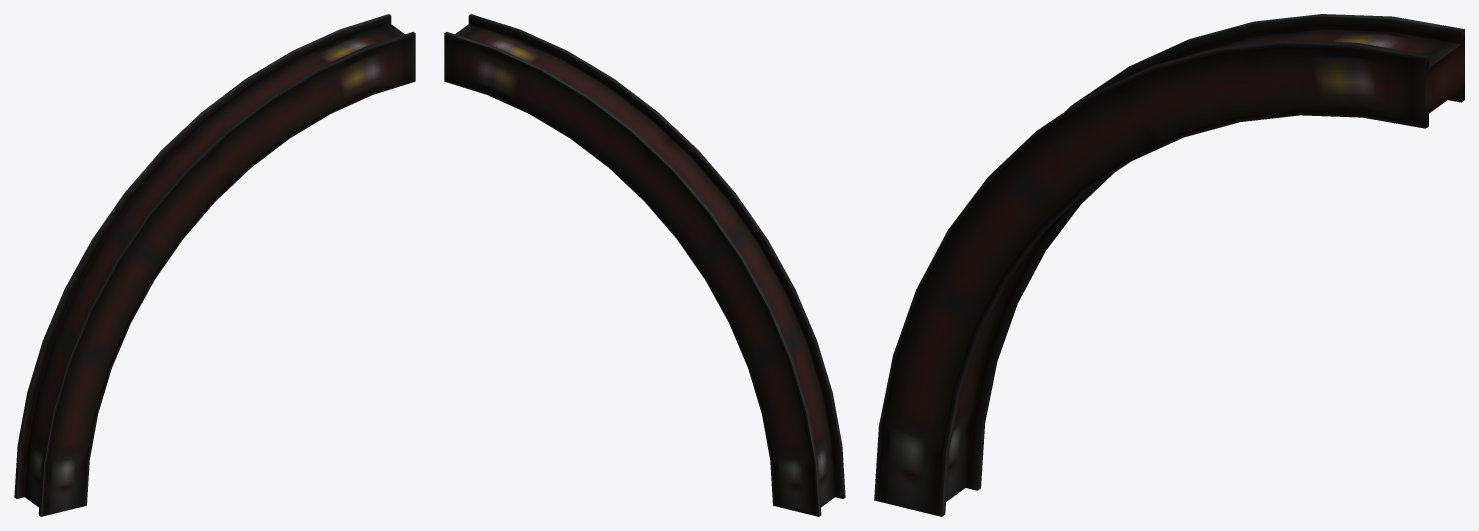
File: Beam_90deg_1.FBX
3 renders of one model, left to right at view 1: azimuth 30°, elevation 25°; view 2: azimuth 150°, elevation 25°; view 3: azimuth 330°, elevation 25°, orthographic. The views are drawn at different scales.
Parts seen in each view (by area): view 1: Beam_90deg_1; view 2: Beam_90deg_1; view 3: Beam_90deg_1.
Part boxes in pixels (<box>): Beam_90deg_1: <box>14,14,415,516</box>; Beam_90deg_1: <box>444,14,845,516</box>; Beam_90deg_1: <box>874,14,1464,516</box>.
Bounding box in the file's own units: 203 × 203 × 25.
